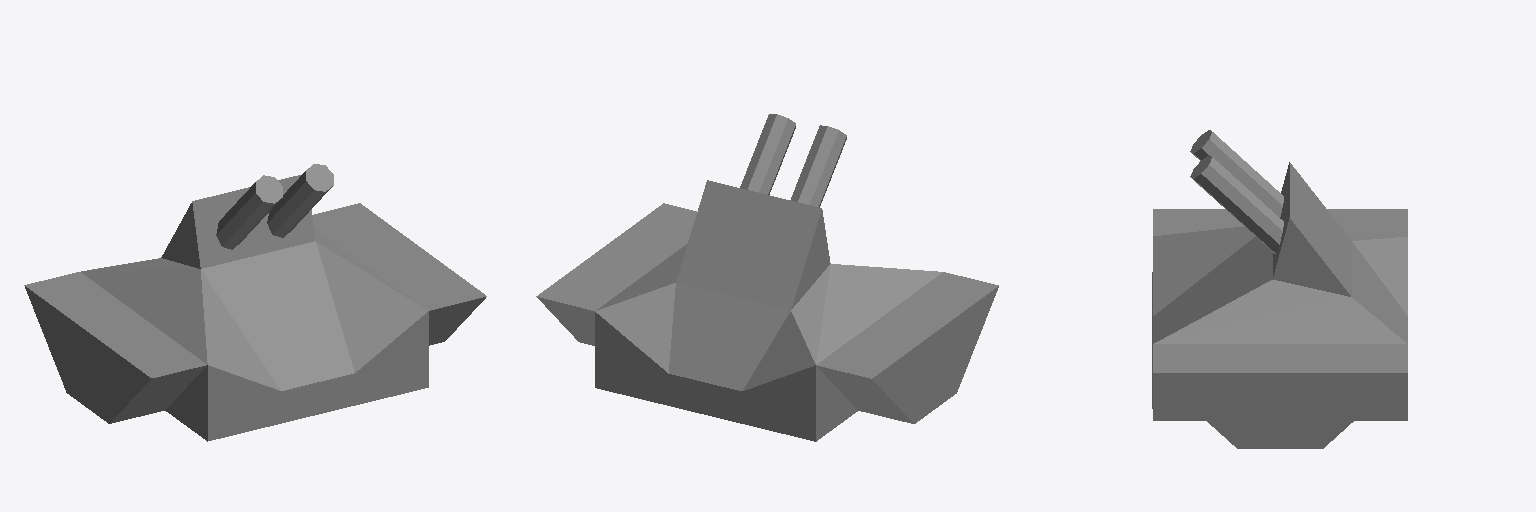
File: AntiAirTank2.obj
3 views of the same model, side by side, from view 1: azimuth 30°, elevation 25°; view 2: azimuth 150°, elevation 25°; view 3: azimuth 270°, elevation 25° (orthographic).
Visible parts, largest first — view 1: Box20; view 2: Box20; view 3: Box20.
Part boxes in pixels (bbox=[...]): Box20: bbox=[24, 164, 486, 441]; Box20: bbox=[536, 114, 998, 441]; Box20: bbox=[1152, 130, 1407, 448].
Bounding box in the file's own units: 3.04 × 1.93 × 2.01.